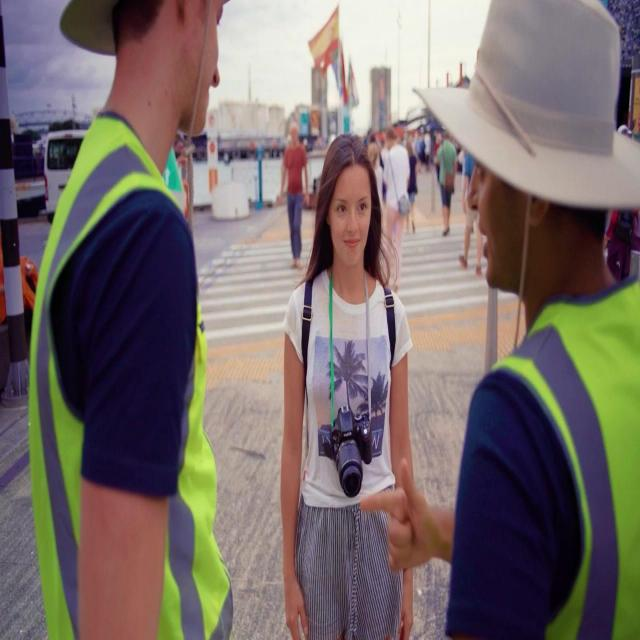Reflective-Jacket: (21, 111, 225, 639), (491, 282, 637, 640)
Safety-Helmet: (443, 2, 640, 217)
